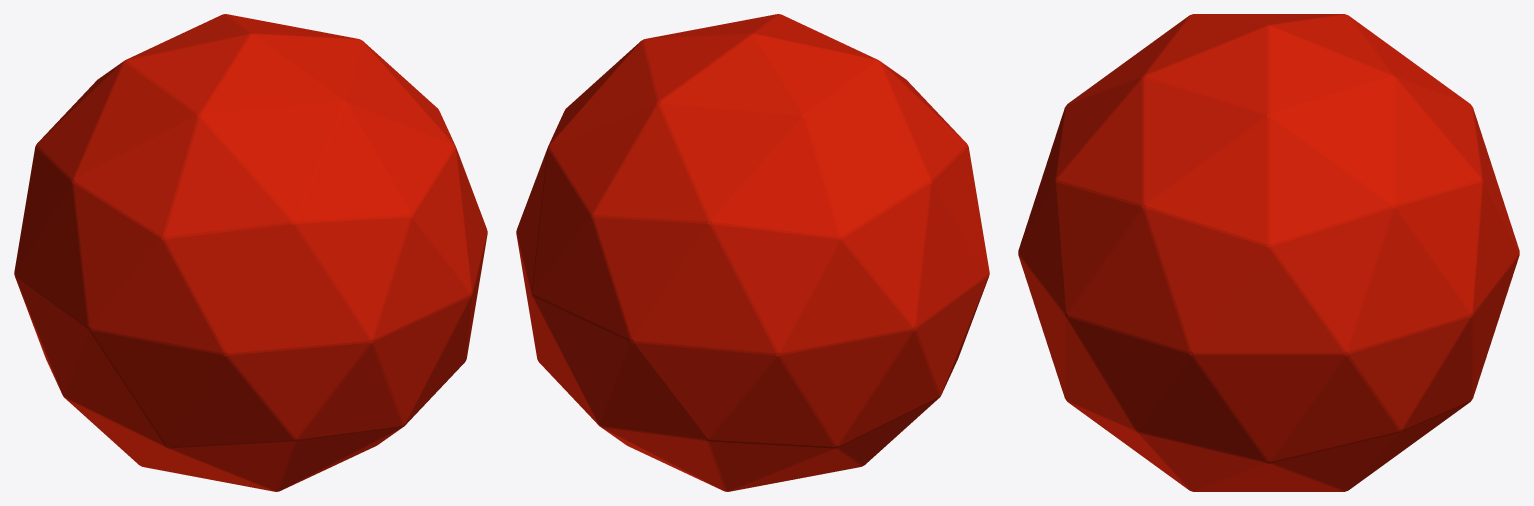
File: Gem_Red.fbx
3 views of the same model, side by side, from view 1: azimuth 30°, elevation 25°; view 2: azimuth 150°, elevation 25°; view 3: azimuth 270°, elevation 25° (orthographic). The views are drawn at different scales.
Parts seen in each view (by area): view 1: Icosphere; view 2: Icosphere; view 3: Icosphere.
Boxes of the visible parts, x1,y1,x2,y2 form: Icosphere: (14,14,487,491); Icosphere: (516,14,989,491); Icosphere: (1018,14,1519,491).
Size of the model in its own units: 95.04 by 99.7 by 99.64.
